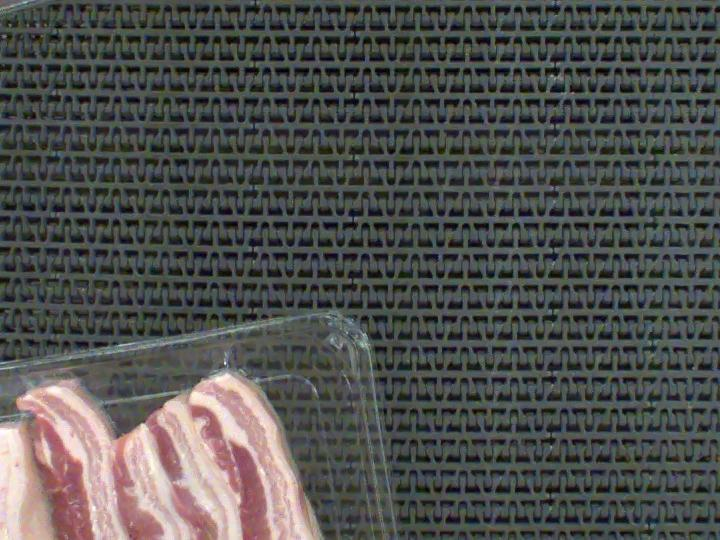packaging-error: (0, 359, 123, 420)
